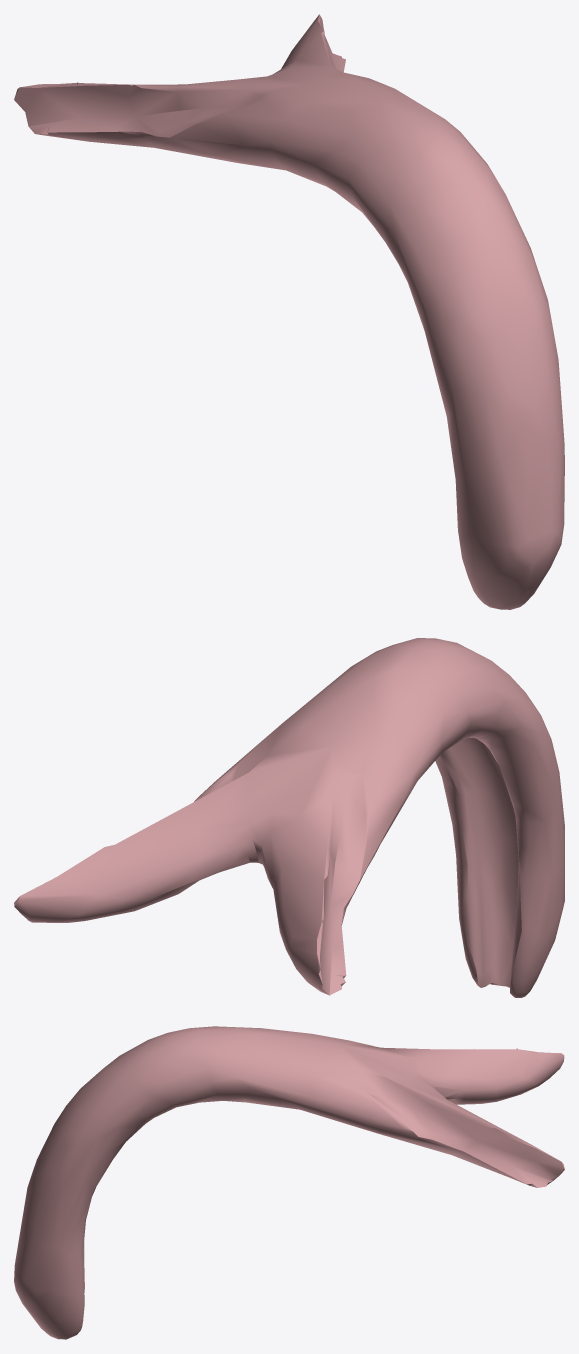
File: fma19618_fj3132.glb
3 views of the same model, one above another, from view 1: azimuth 30°, elevation 25°; view 2: azimuth 150°, elevation 25°; view 3: azimuth 270°, elevation 25° (orthographic). The views are drawn at different scales.
Visible parts, largest first — view 1: FMA19618_FJ3132; view 2: FMA19618_FJ3132; view 3: FMA19618_FJ3132.
Boxes of the visible parts, <box> form: FMA19618_FJ3132: <box>14,14,564,609</box>; FMA19618_FJ3132: <box>14,638,564,997</box>; FMA19618_FJ3132: <box>14,1026,564,1339</box>.
Size of the model in its own units: 0.0632 by 0.0803 by 0.1311.
